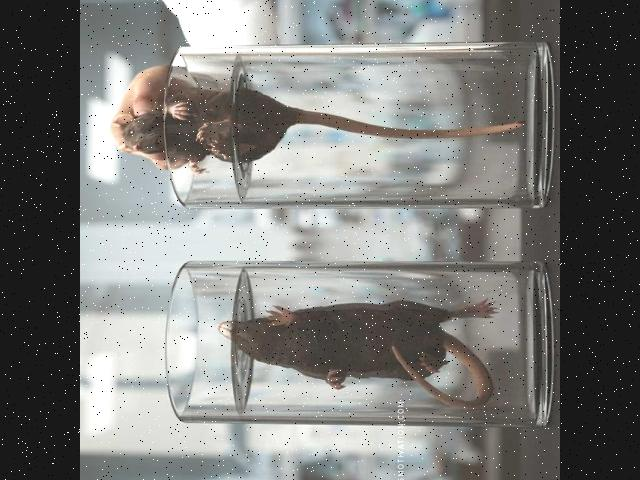Tikus: (110, 66, 521, 172), (220, 297, 496, 405)
